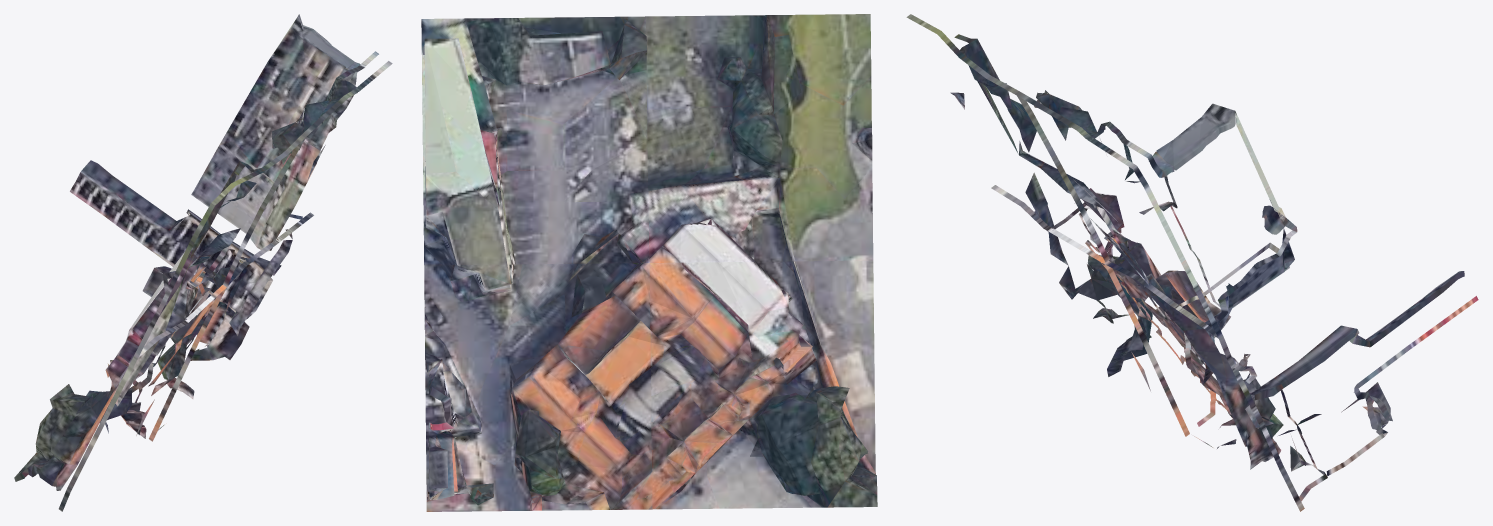
3 renders of one model, left to right at view 1: azimuth 30°, elevation 25°; view 2: azimuth 150°, elevation 25°; view 3: azimuth 270°, elevation 25°, orthographic. The views are drawn at different scales.
Size of the model in its own units: 80.76 by 75.2 by 92.79.
2 materials, 2 textured.
